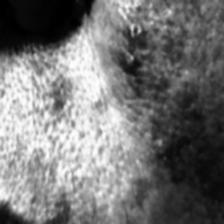Potentially Malignant Skin Tumors: (72, 0, 82, 7)
